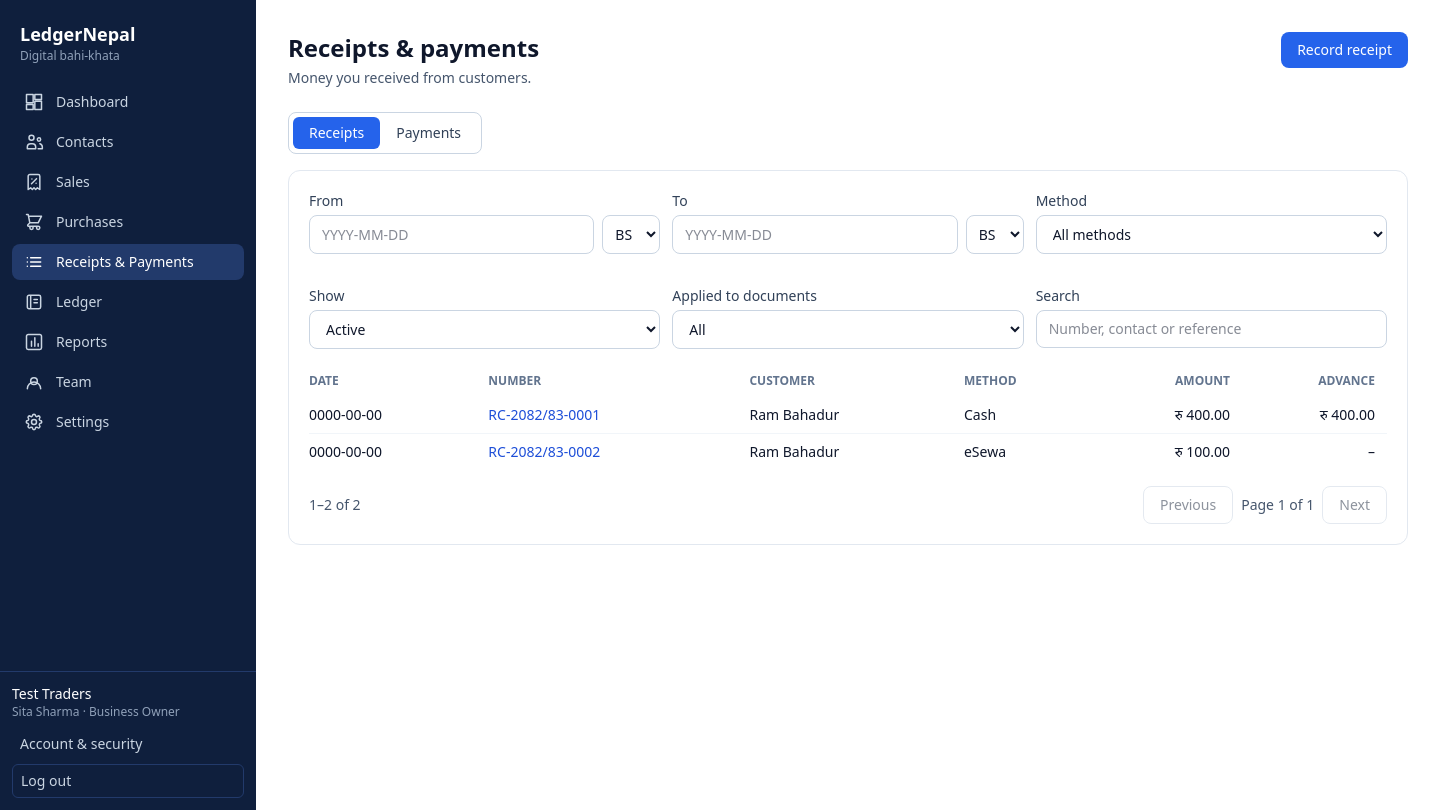
Scenario: the list › shows receipts, with the advance, and switches to payments
Expected: the text "Cash" is shown, [964, 397, 1100, 434]
Expected: the text "रु 400.00" is shown 2 times, [1175, 405, 1230, 424]; [1320, 405, 1375, 424]
What coordinates should you click on to do the following:
click the tab "Payments"
I would click on:
 (429, 133)
Its box is [380, 117, 477, 149].
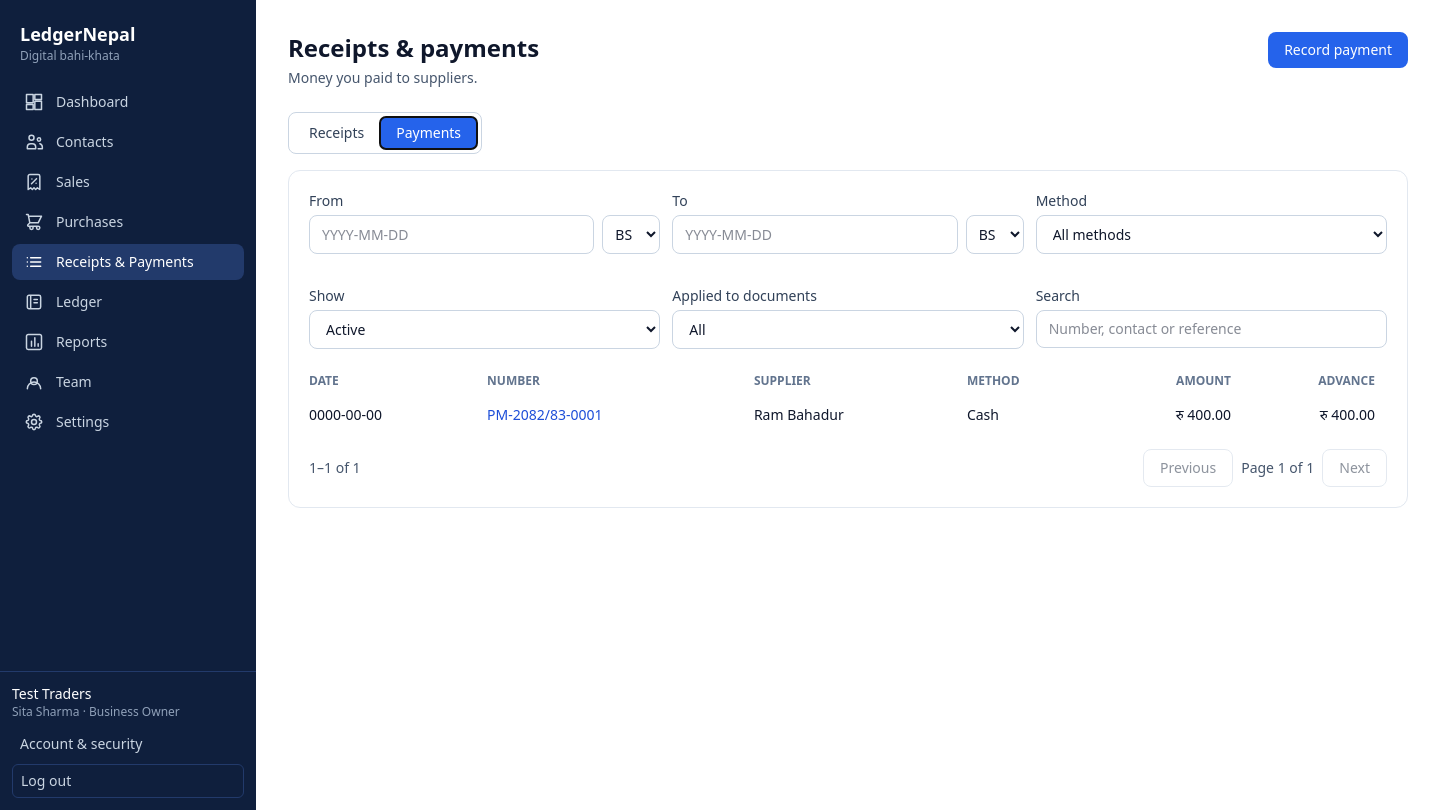
Expected: the link "Record payment" is shown, [1268, 32, 1408, 68]
